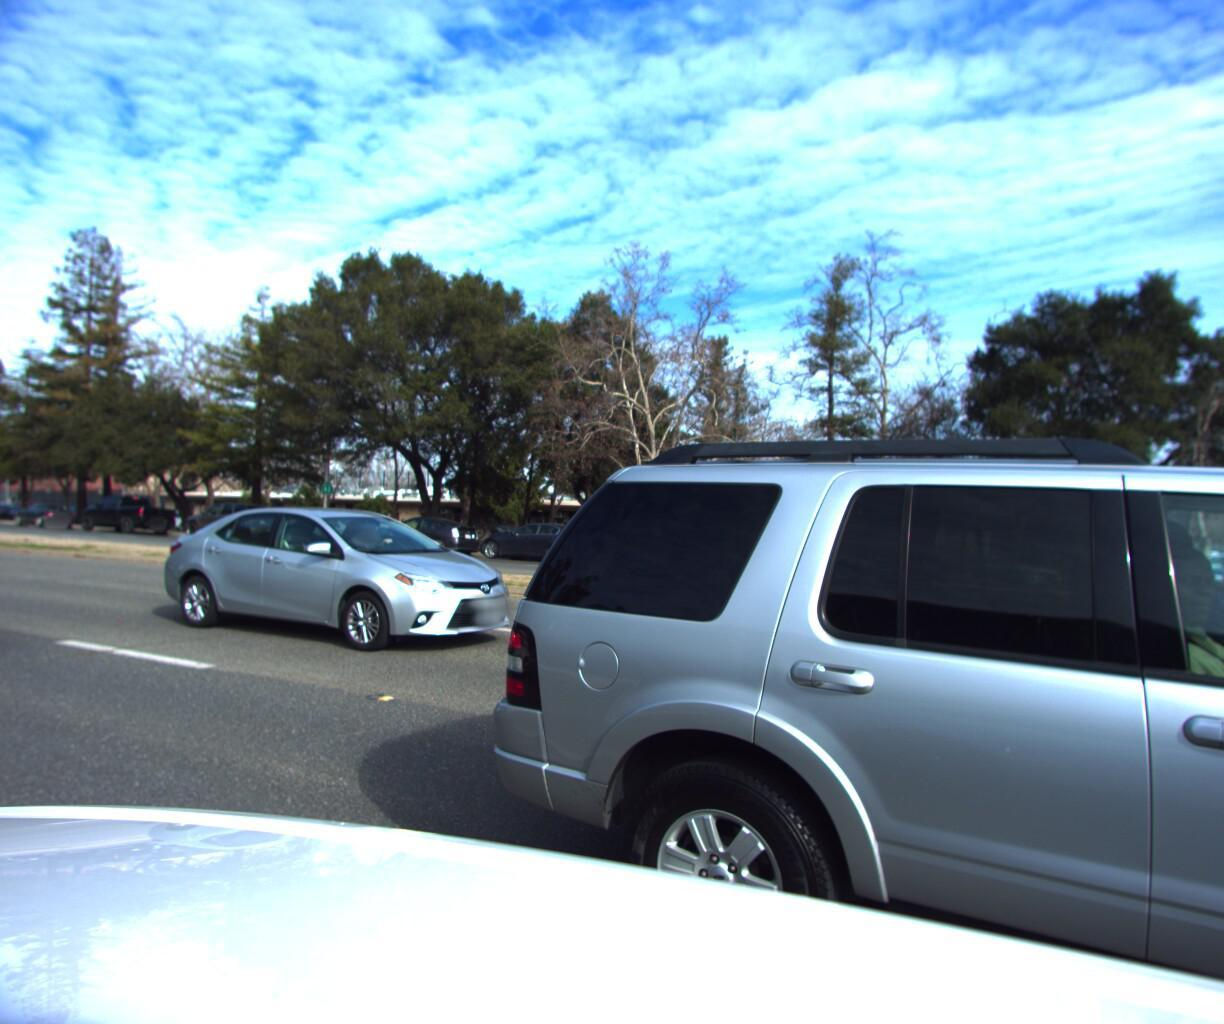car: (465, 167, 1224, 1024), (139, 494, 536, 655), (473, 515, 611, 568), (371, 514, 484, 558), (74, 497, 174, 537), (0, 441, 15, 690), (179, 510, 282, 545), (4, 501, 83, 531), (0, 500, 2, 526)
